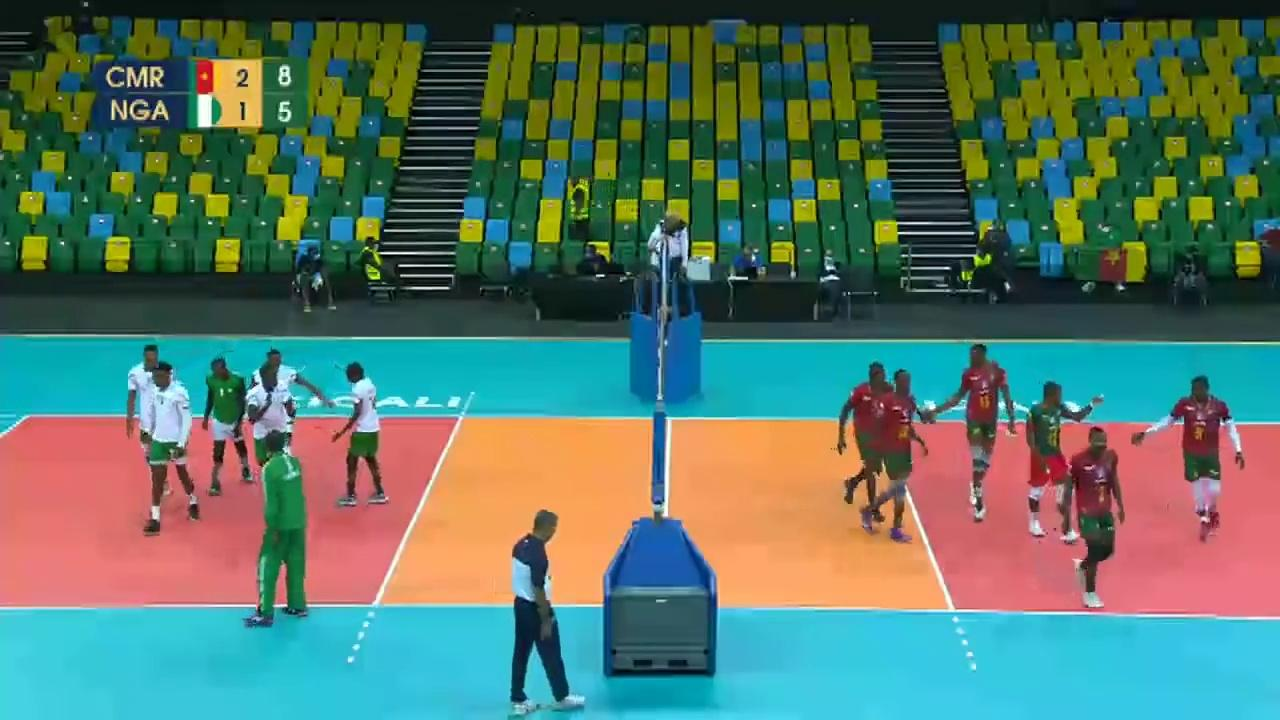player: (928, 339, 1024, 530), (1144, 372, 1242, 544), (1066, 424, 1128, 606), (1025, 381, 1098, 534), (142, 365, 198, 530), (875, 366, 919, 554), (336, 365, 390, 505), (199, 354, 252, 489), (841, 351, 886, 510), (116, 344, 173, 446), (248, 368, 296, 459), (256, 344, 304, 390)
refree: (512, 513, 581, 707), (644, 206, 700, 309)
